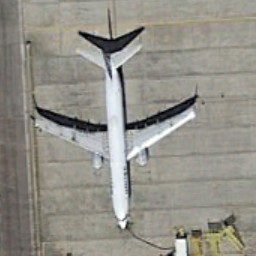Airplane: (24, 31, 205, 238)
